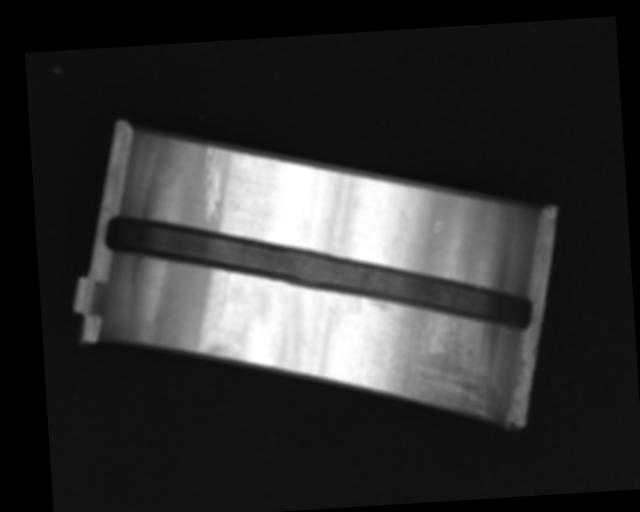bruise: (431, 219, 442, 233)
gap: (101, 190, 533, 356)
nick: (199, 142, 224, 224), (213, 269, 233, 317)
scratch: (366, 289, 508, 428)
